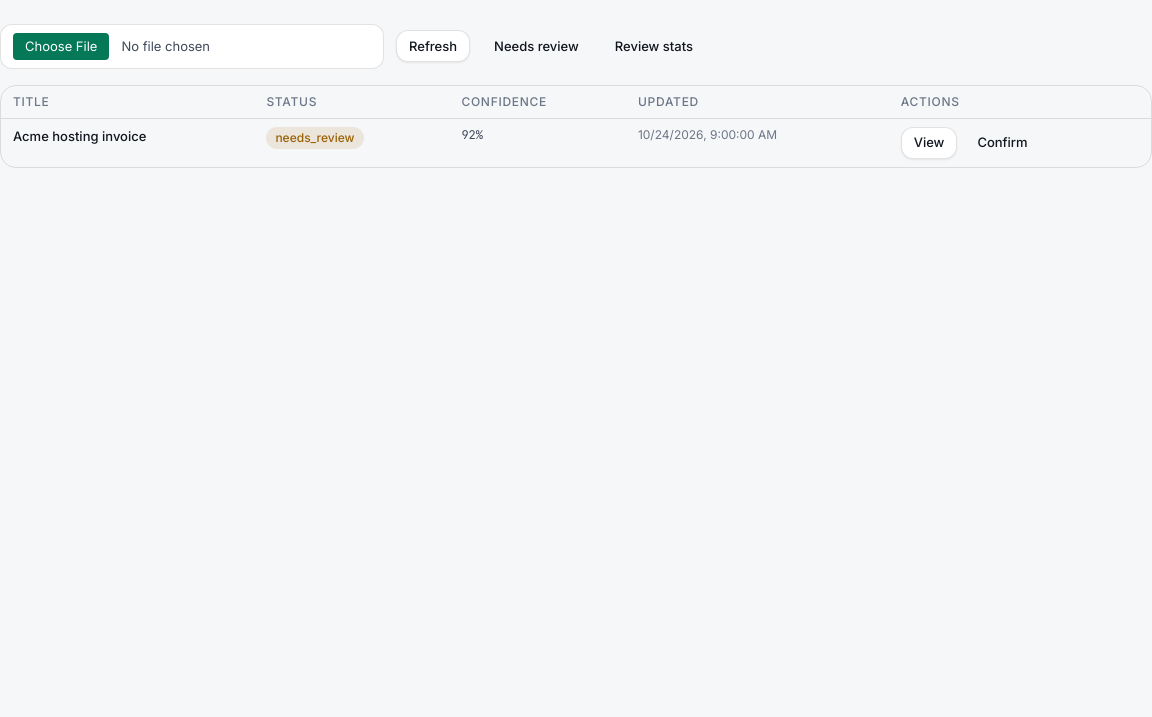
Test: DocumentManager review mode › renders the total field as editable with a required reason while its error is open
The image size is (1152, 717).
Click the button "Needs review": {"x": 536, "y": 46} x1=482 y1=30 x2=591 y2=62
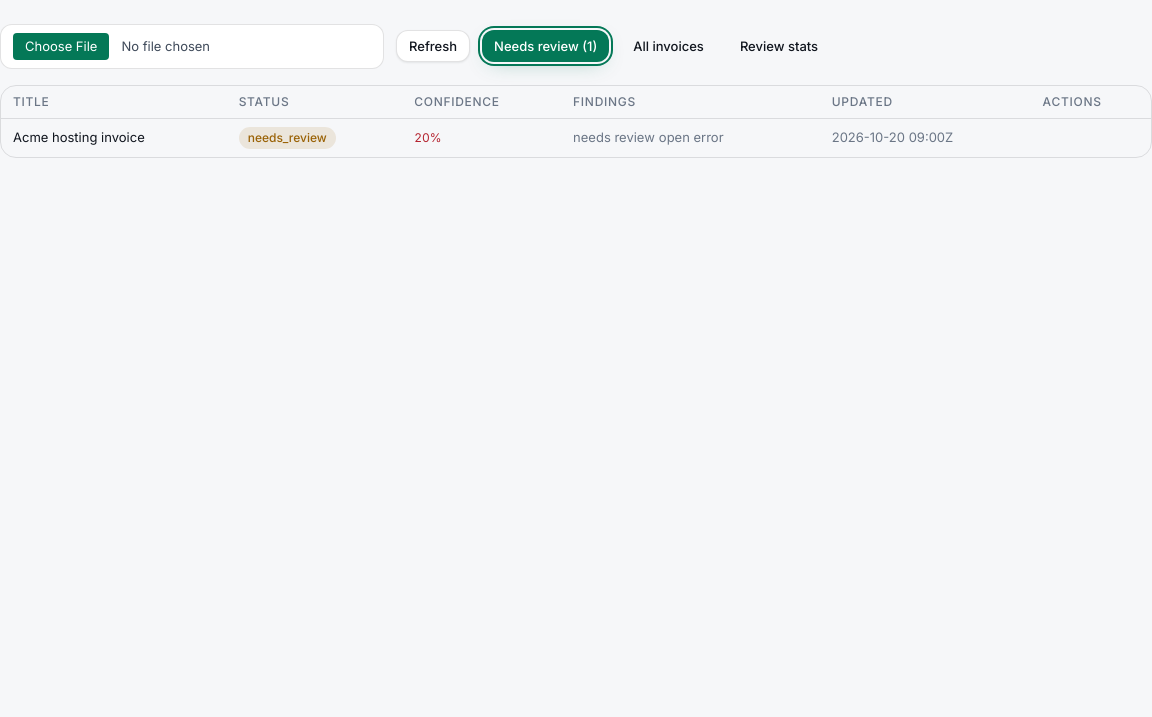
Click the button "Acme hosting invoice": {"x": 79, "y": 138} x1=13 y1=128 x2=145 y2=147
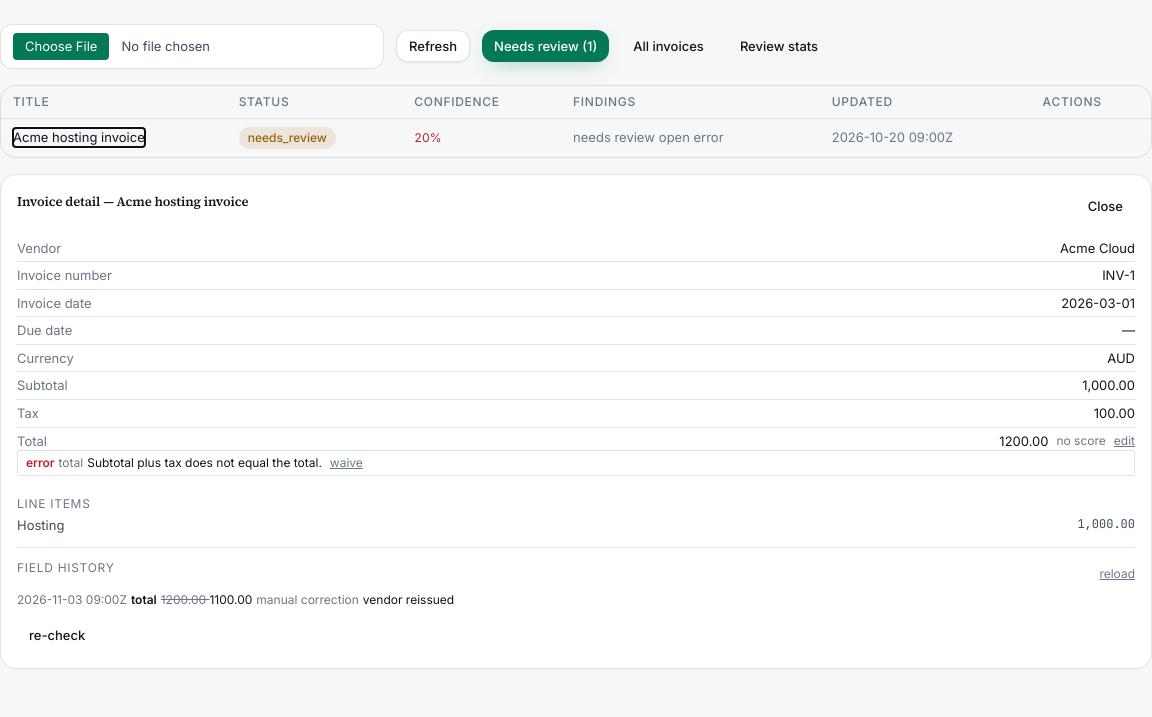
Result: the text "Subtotal plus tax does not equal the total." is shown at x1=87 y1=455 x2=322 y2=470
Click the button "edit": {"x": 1124, "y": 441} x1=1114 y1=433 x2=1135 y2=449
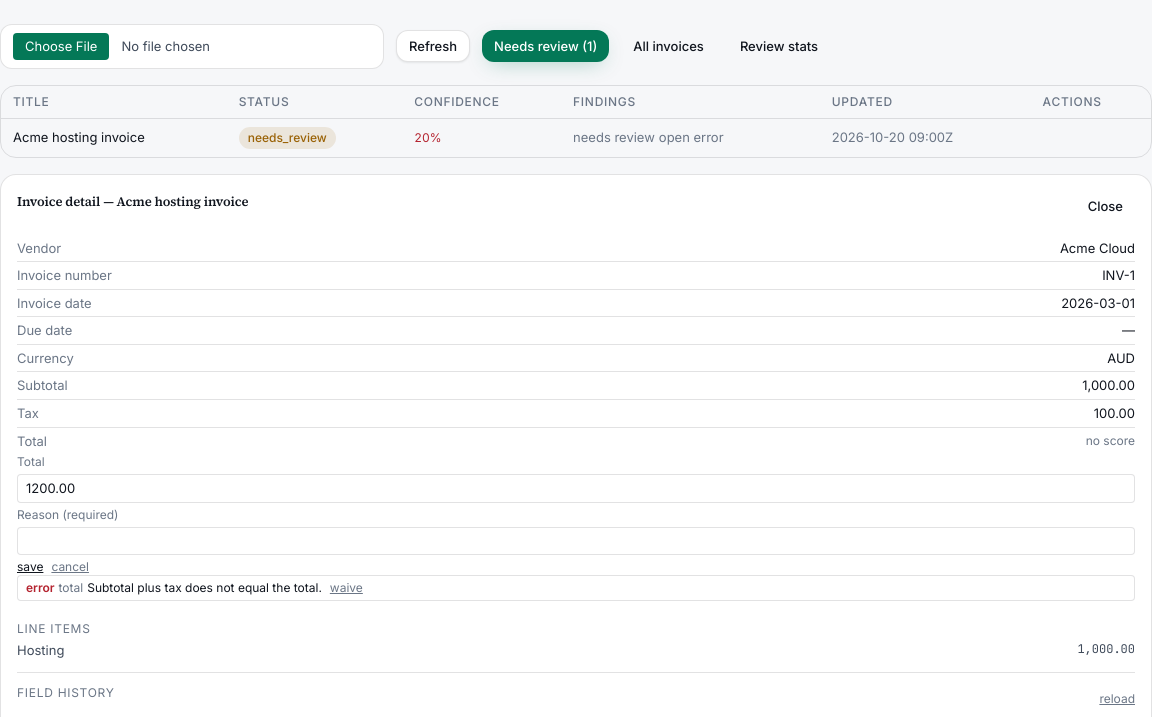
Result: the text "Reason (required)" is shown at x1=17 y1=507 x2=1135 y2=555
